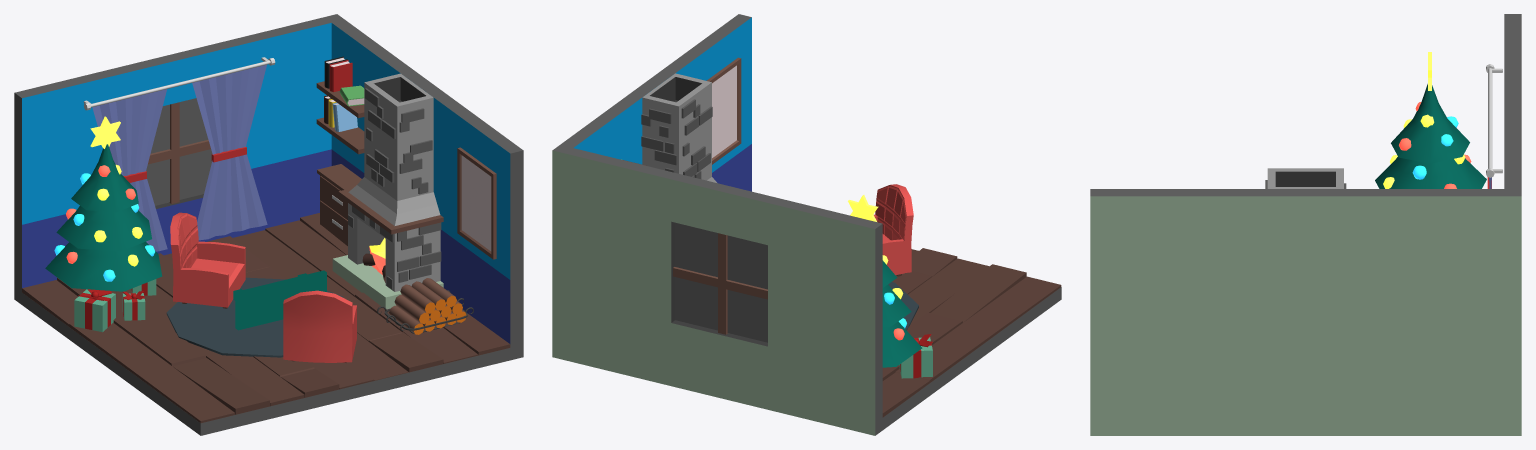
The model's file is christmas_Pair2_TWEAKED_colors_table.glb.
3 views of the same model, side by side, from view 1: azimuth 30°, elevation 25°; view 2: azimuth 150°, elevation 25°; view 3: azimuth 270°, elevation 25° (orthographic). The views are drawn at different scales.
Parts seen in each view (by area): view 1: Room, Floor, Fireplace, Christmas_tree, Curtain2, Chair1, Chair2, Curtain1, Rug, Glass, Picture, CenterTable (+10 smaller); view 2: Room, Floor, Glass, Fireplace, Christmas_tree, Chair2, Picture, Window, Present1; view 3: Room, Christmas_tree, Fireplace, Curtain_rod_Material #246_0.
Boxes of the visible parts, box(x1,y1,x2,y2) form: Room: box(14, 14, 523, 435); Floor: box(22, 213, 510, 422); Fireplace: box(332, 73, 443, 309); Christmas_tree: box(45, 116, 162, 298); Curtain2: box(192, 64, 267, 240); Chair1: box(170, 212, 245, 308); Chair2: box(283, 290, 356, 362); Curtain1: box(92, 89, 167, 251); Rug: box(166, 277, 343, 357); Glass: box(146, 98, 212, 205); Picture: box(457, 147, 496, 259); CenterTable: box(233, 270, 326, 330); Room: box(552, 14, 1061, 435); Floor: box(882, 248, 1061, 417); Glass: box(674, 222, 767, 342); Fireplace: box(641, 73, 716, 182); Christmas_tree: box(848, 195, 922, 367); Chair2: box(874, 184, 913, 276); Picture: box(706, 57, 741, 164); Window: box(673, 233, 767, 334); Present1: box(899, 334, 932, 378); Room: box(1090, 14, 1521, 435); Christmas_tree: box(1375, 52, 1486, 188); Fireplace: box(1265, 168, 1346, 188); Curtain_rod_Material #246_0: box(1486, 64, 1502, 177).
Bounding box in the file's own units: 400 × 290 × 400.
2 materials, 1 textured.
